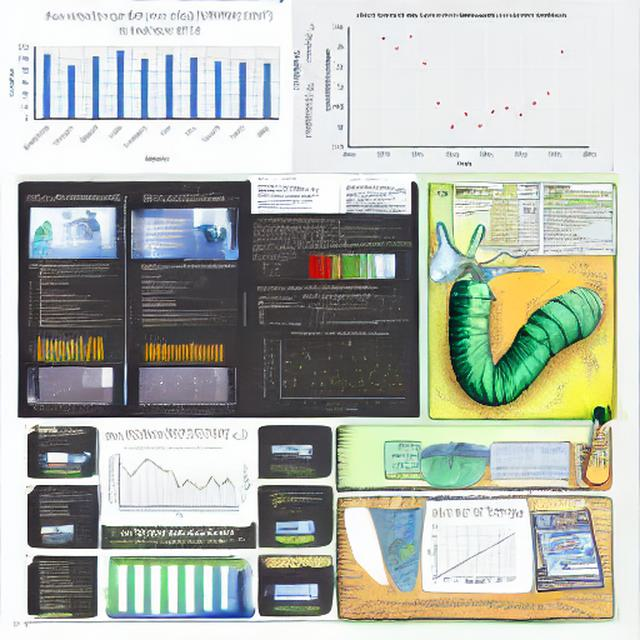Graph: (0, 3, 287, 169), (324, 9, 598, 169), (259, 328, 412, 414), (104, 444, 242, 520), (424, 520, 521, 589), (30, 328, 97, 368)
